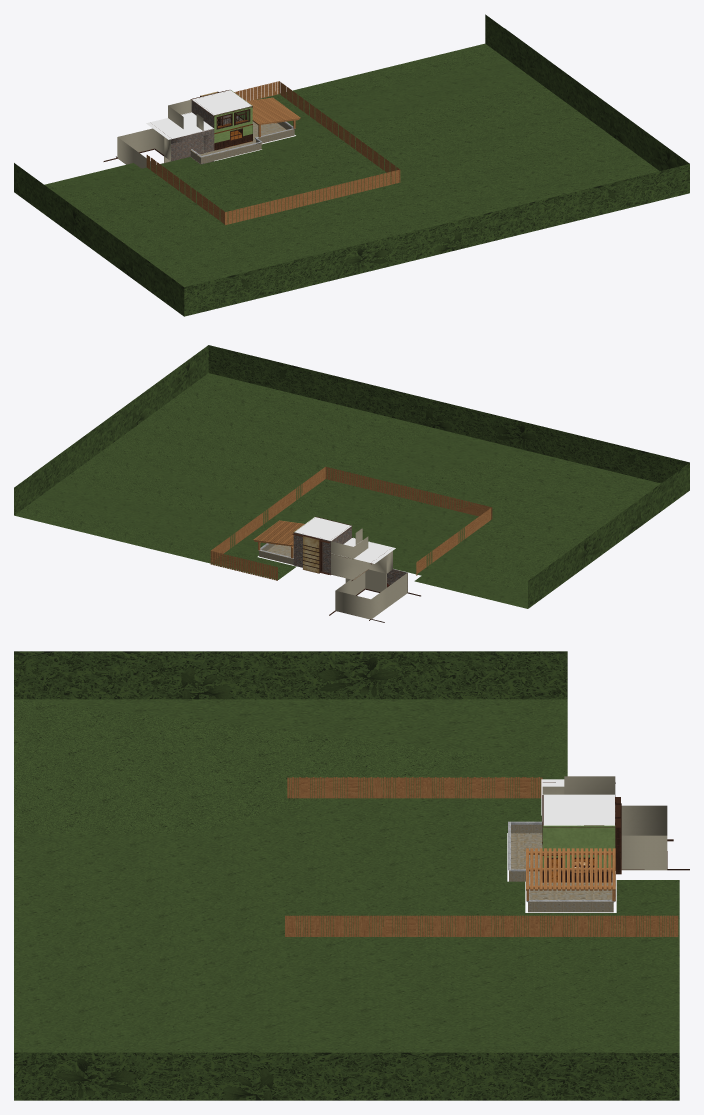
The model's file is mdl_hub_CentralHub.gltf.
3 renders of one model, top to bottom at view 1: azimuth 30°, elevation 25°; view 2: azimuth 150°, elevation 25°; view 3: azimuth 270°, elevation 25°, orthographic. The views are drawn at different scales.
Parts seen in each view (by area): view 1: Plane.002, Cube.007, Wall Textures Bake.002, Baked Ceiling, Plane.001, Cube.002, Wall Textures Bake.001; view 2: Plane.002, Cube.007, Wall Textures Bake.002, Baked Ceiling, Cube.002, Wall Textures Bake.017, Map Shelf, Plane.001; view 3: Plane.002, Cube.007, Wall Textures Bake.002, Plane.001, Cube.002, Baked Ceiling, Wall Textures Bake.001.
Part boxes in pixels (bbox=[...]): Plane.002: bbox=[14, 14, 689, 316]; Cube.007: bbox=[146, 81, 400, 225]; Wall Textures Bake.002: bbox=[117, 99, 214, 168]; Baked Ceiling: bbox=[146, 90, 251, 139]; Plane.001: bbox=[190, 118, 294, 163]; Cube.002: bbox=[247, 97, 300, 124]; Wall Textures Bake.001: bbox=[214, 90, 252, 143]; Plane.002: bbox=[14, 345, 689, 608]; Cube.007: bbox=[210, 466, 492, 580]; Wall Textures Bake.002: bbox=[331, 526, 407, 619]; Baked Ceiling: bbox=[294, 517, 395, 563]; Cube.002: bbox=[253, 520, 304, 546]; Wall Textures Bake.017: bbox=[293, 531, 344, 573]; Map Shelf: bbox=[303, 536, 319, 573]; Plane.001: bbox=[259, 543, 293, 564]; Plane.002: bbox=[14, 651, 679, 1100]; Cube.007: bbox=[285, 777, 678, 936]; Wall Textures Bake.002: bbox=[542, 776, 667, 870]; Plane.001: bbox=[509, 824, 613, 912]; Cube.002: bbox=[526, 848, 615, 890]; Baked Ceiling: bbox=[541, 779, 614, 825]; Wall Textures Bake.001: bbox=[542, 825, 615, 867].
Bounding box in the file's own units: 156 × 16.82 × 111.
Materials: 14 (13 with a texture image).
